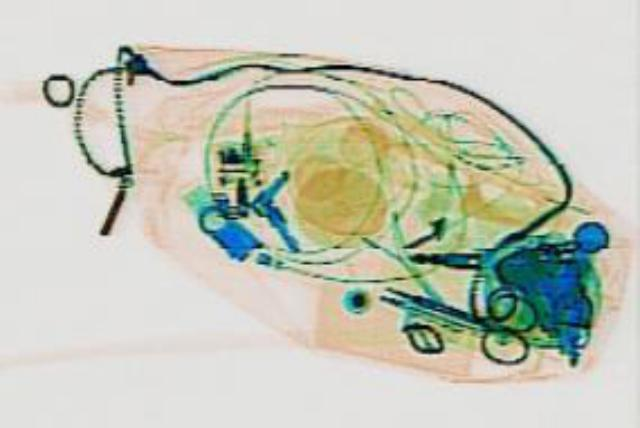Scissors: (356, 259, 560, 364)
